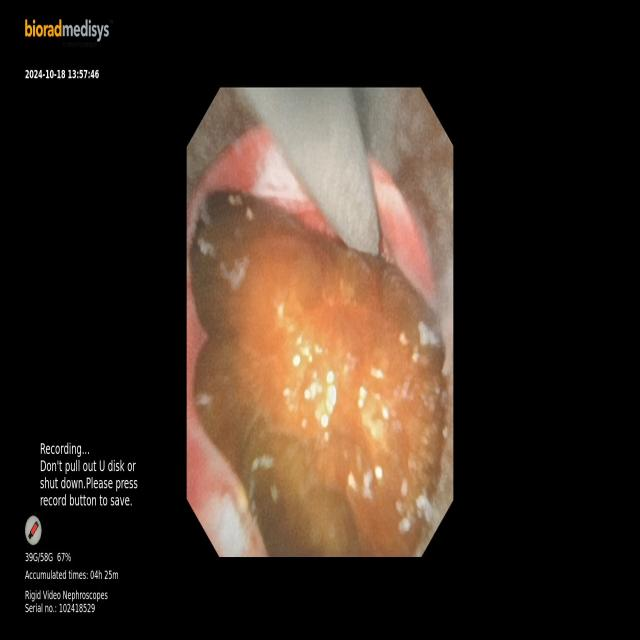stone-new: (190, 191, 447, 555)
